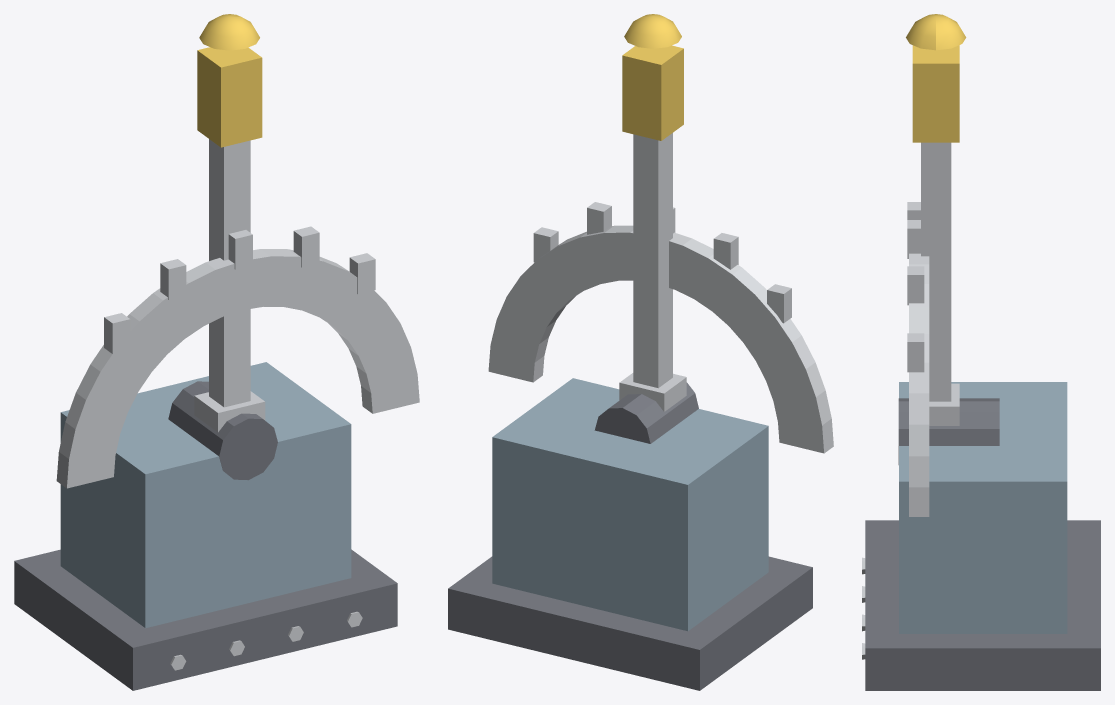
The model's file is animated-mechanisms-kit-wall-lever-39b21e3d__24632.glb.
3 views of the same model, side by side, from view 1: azimuth 30°, elevation 25°; view 2: azimuth 150°, elevation 25°; view 3: azimuth 270°, elevation 25° (orthographic). The views are drawn at different scales.
Parts seen in each view (by area): view 1: wall-lever, lever/steel, lever/accent; view 2: wall-lever, lever/steel, lever/accent; view 3: wall-lever, lever/steel, lever/accent.
Part boxes in pixels (x1,y1,x2,y2): wall-lever: (14,226,419,690); lever/steel: (194,139,265,432); lever/accent: (197,14,262,147); wall-lever: (448,202,833,690); lever/steel: (619,133,686,411); lever/accent: (622,14,683,140); wall-lever: (862,202,1100,690); lever/steel: (921,142,959,425); lever/accent: (906,14,966,142).
Size of the model in its own units: 1.2 by 2 by 0.71.
